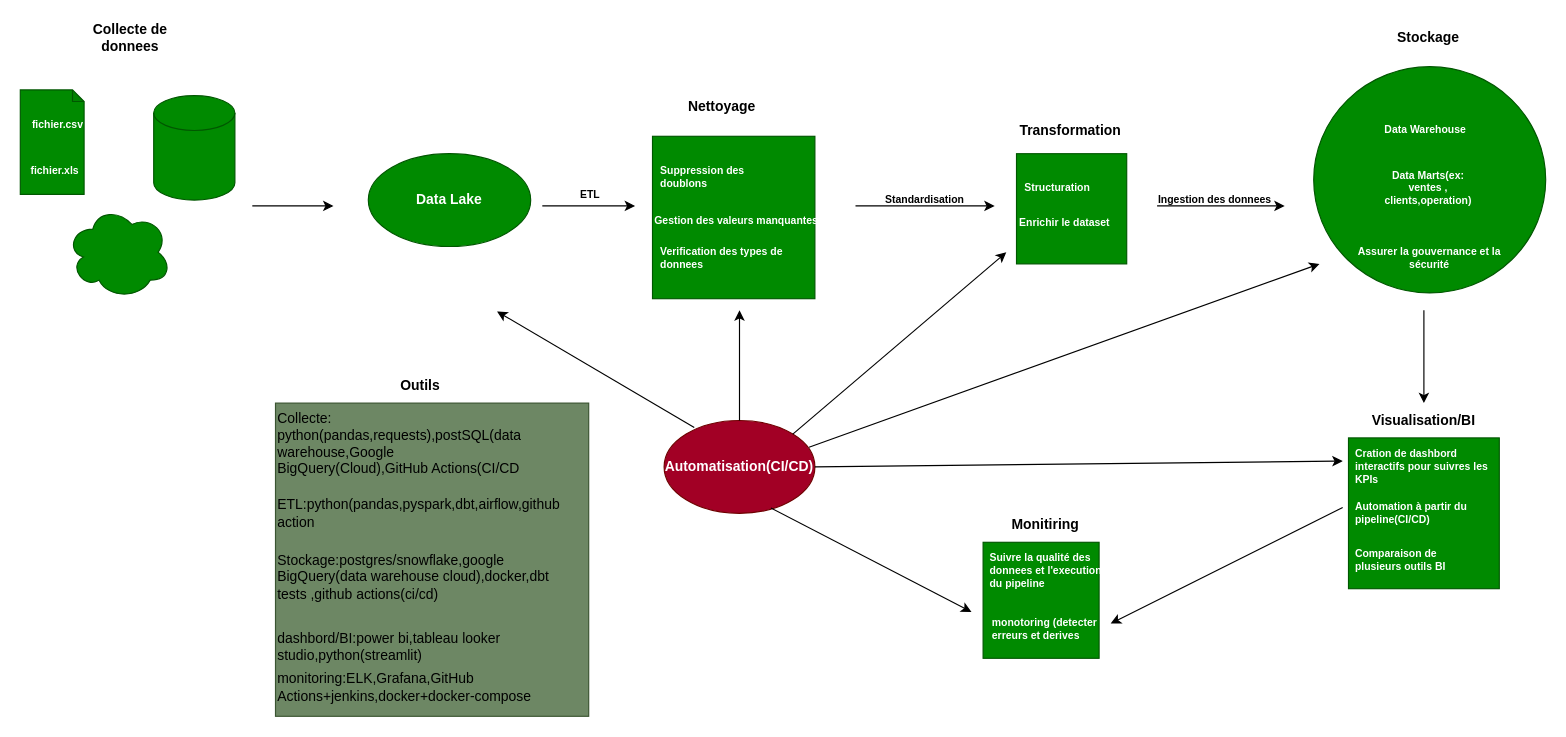
Image size: 1566x737. Some labels were removed from this diagram. Here are the shapes that lost their labels. From the top down, the box of each, then its label:
(153, 95, 235, 200): SQL/NoSQL
(66, 205, 171, 299): APIs
